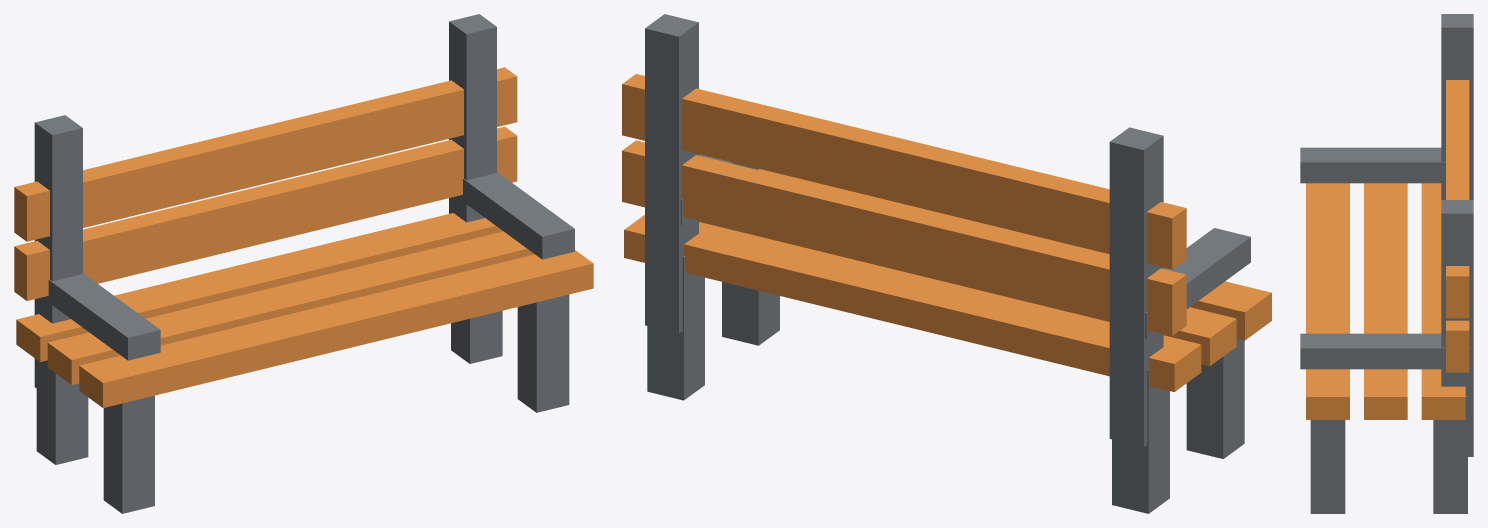
File: Street_Bench.glb
The picture shows the model from 3 angles, left to right: view 1: azimuth 30°, elevation 25°; view 2: azimuth 150°, elevation 25°; view 3: azimuth 270°, elevation 25°; orthographic projection. The views are drawn at different scales.
Visible parts, largest first — view 1: Street_Bench; view 2: Street_Bench; view 3: Street_Bench.
Boxes of the visible parts, left/top/right/bottom form: Street_Bench: left=14, top=14, right=593, bottom=513; Street_Bench: left=622, top=14, right=1271, bottom=513; Street_Bench: left=1300, top=14, right=1473, bottom=513.
Size of the model in its own units: 2.25 by 1.43 by 0.75.
